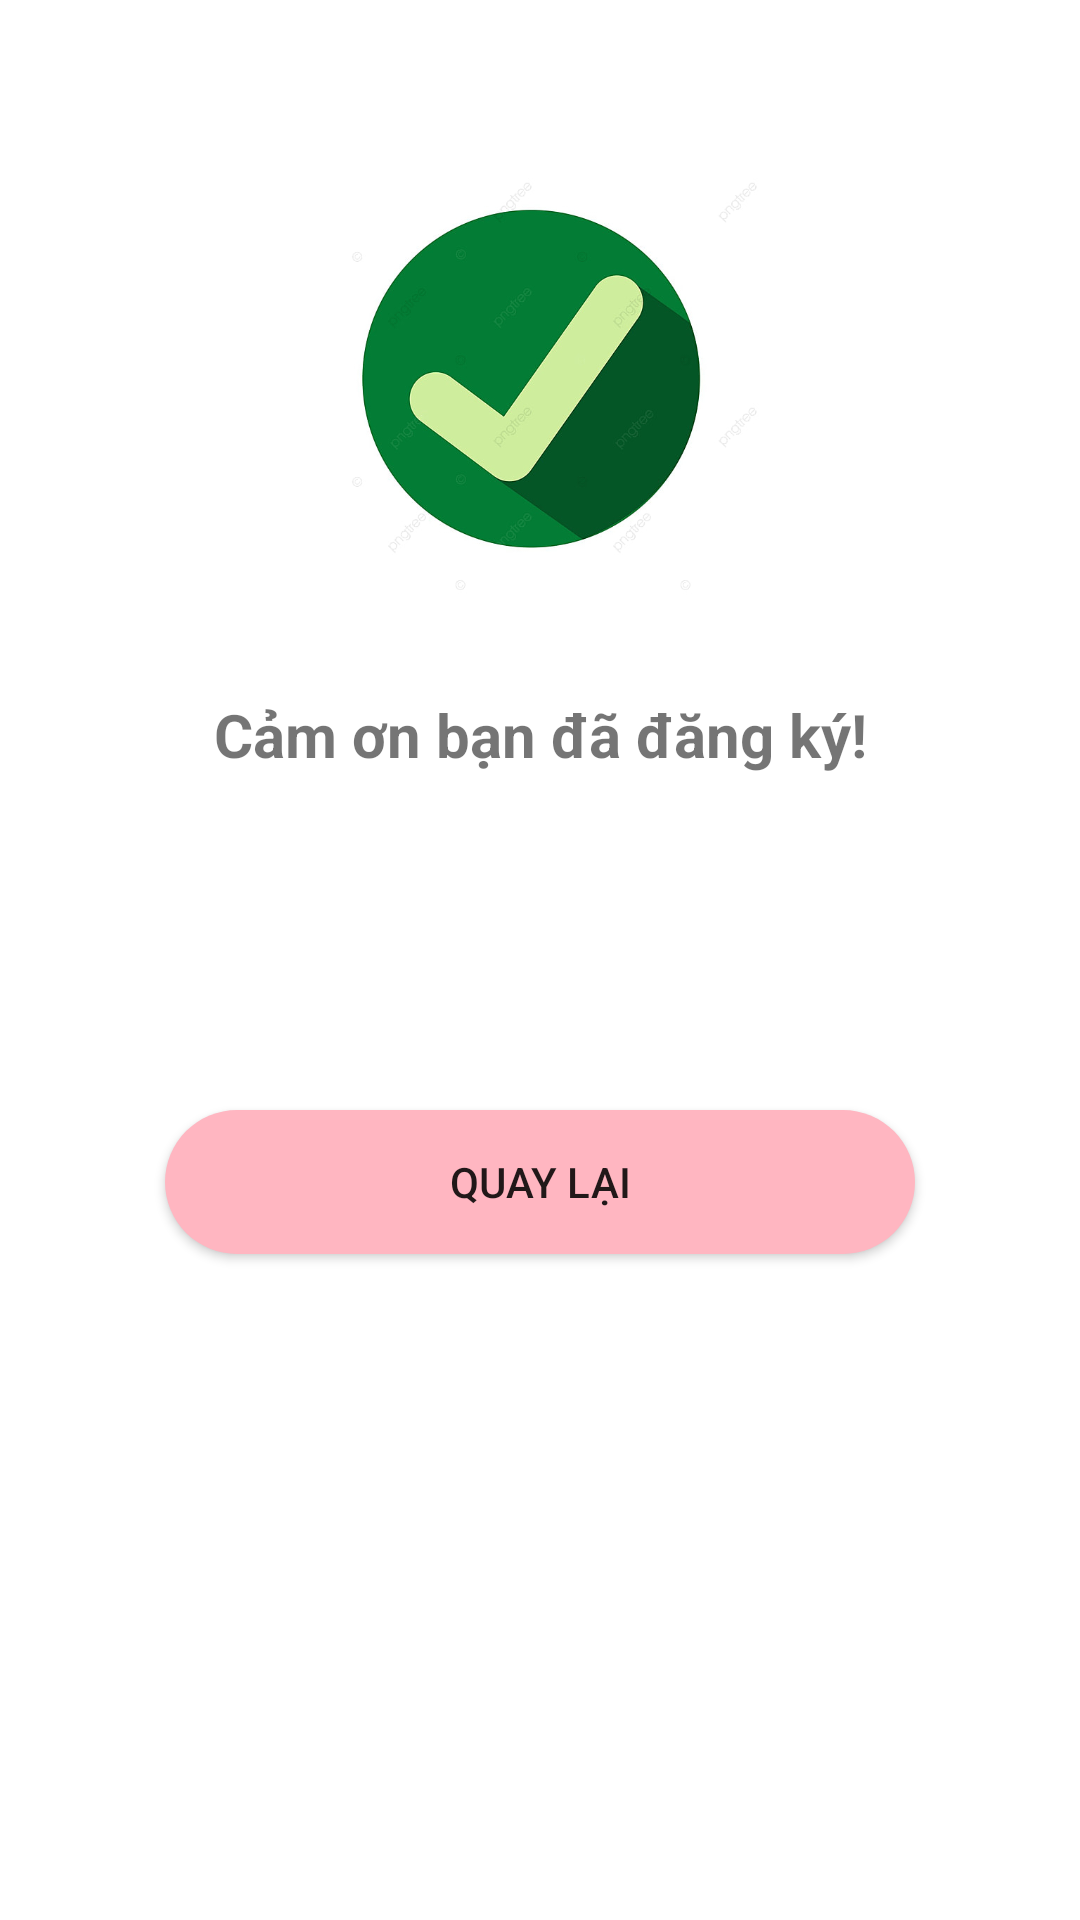

Screen size 1080 × 1920. Icon name, then its center in pixels as point (x, y):
successfully: point (531, 378)
